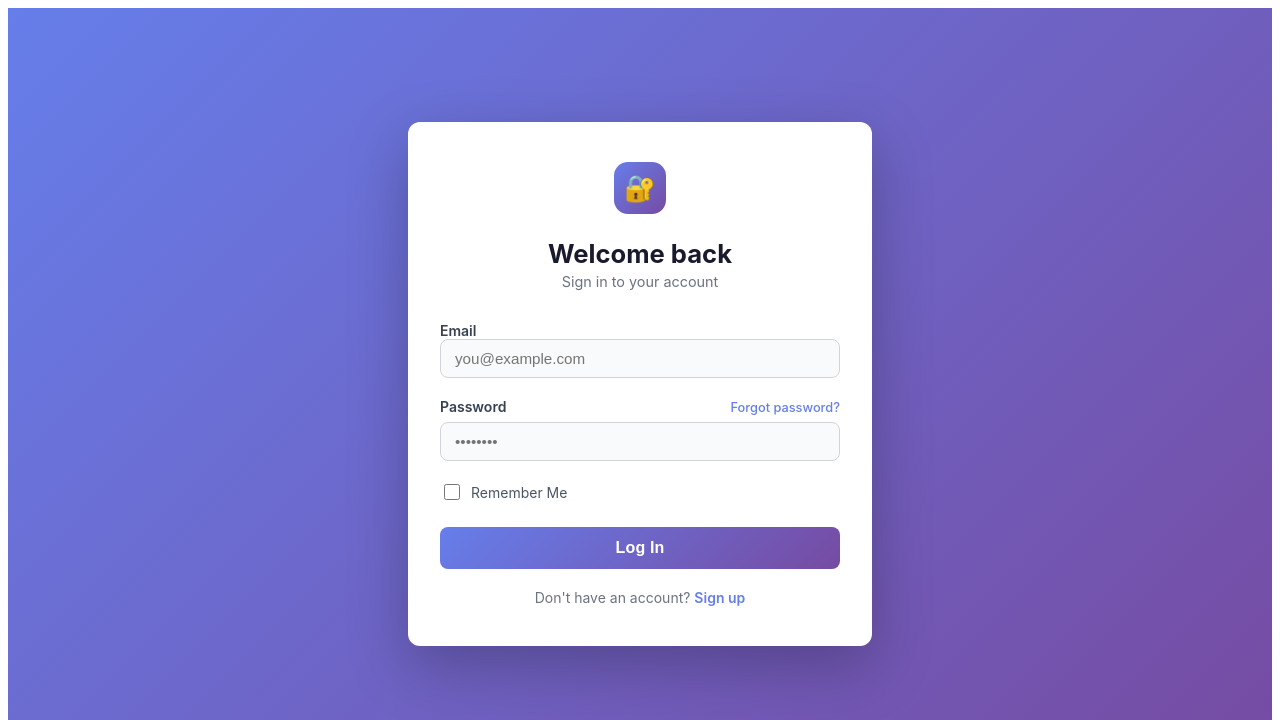
Test: LoginPage › B — Validation › B2: shows "Invalid email address" for bad email format
Type "not-an-email" into the field labelled "Email" at (640, 358), box [440,338,840,378]
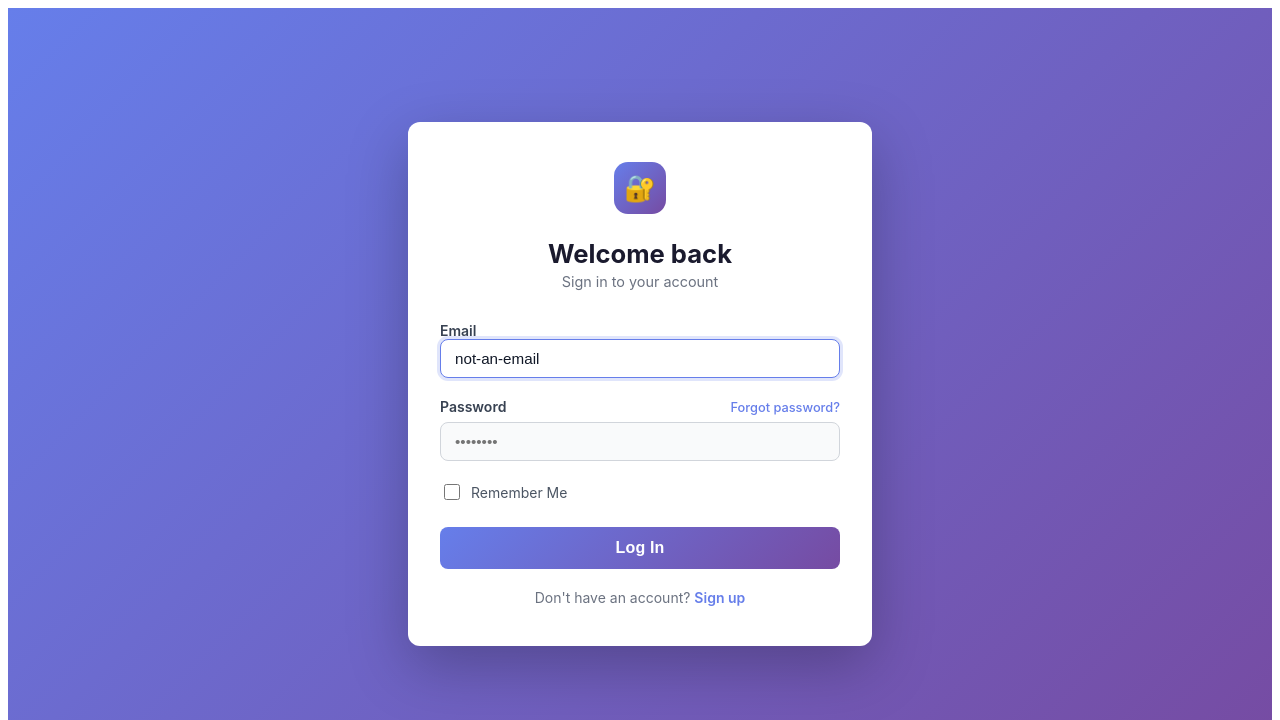
Type "validpassword" into the password field labelled "Password" at (640, 442), box [440,422,840,462]
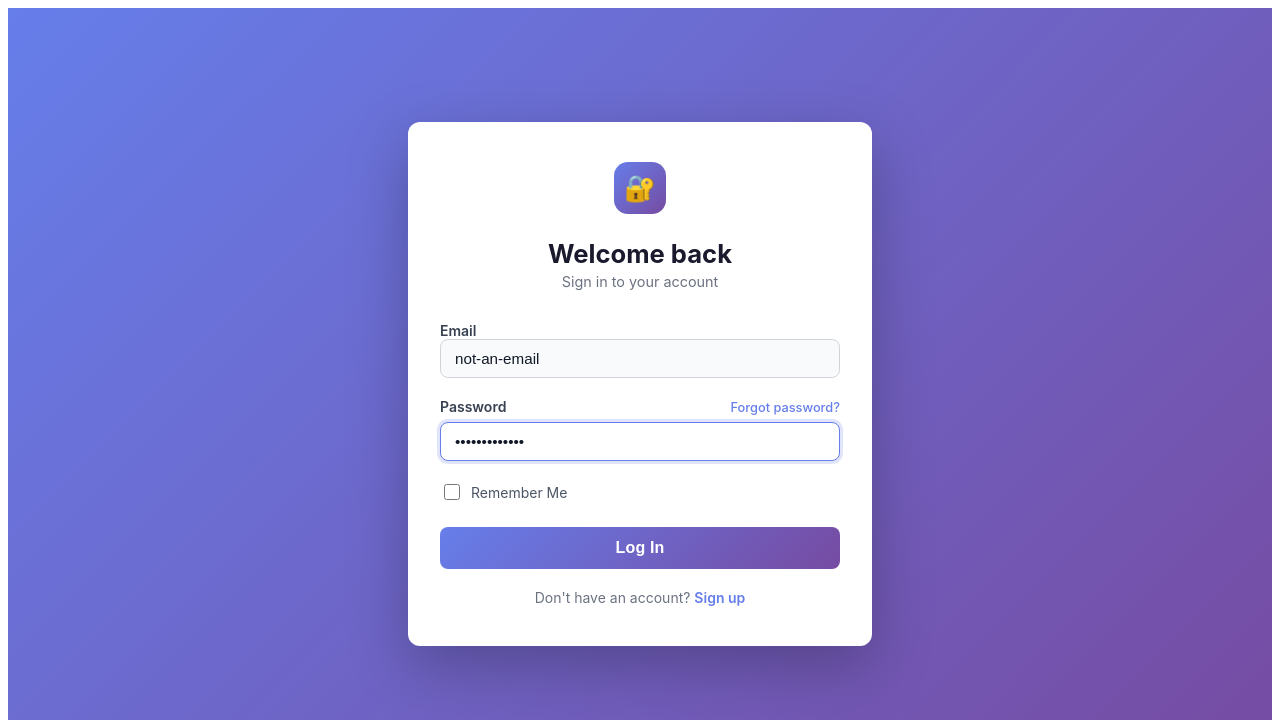
Click the button "Log In" at (640, 548), box [440,528,840,570]
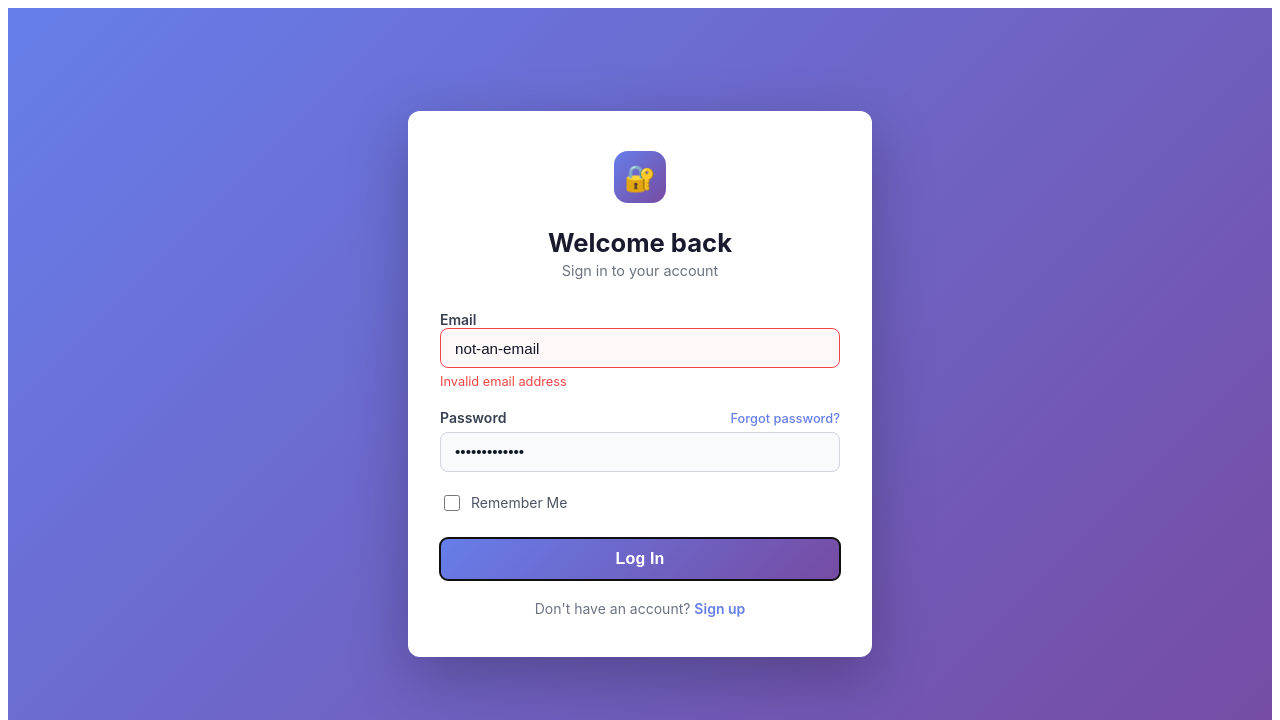
Now the text "Invalid email address" is shown, box [440,374,567,389]
